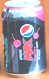pepsi: (2, 1, 48, 77)
